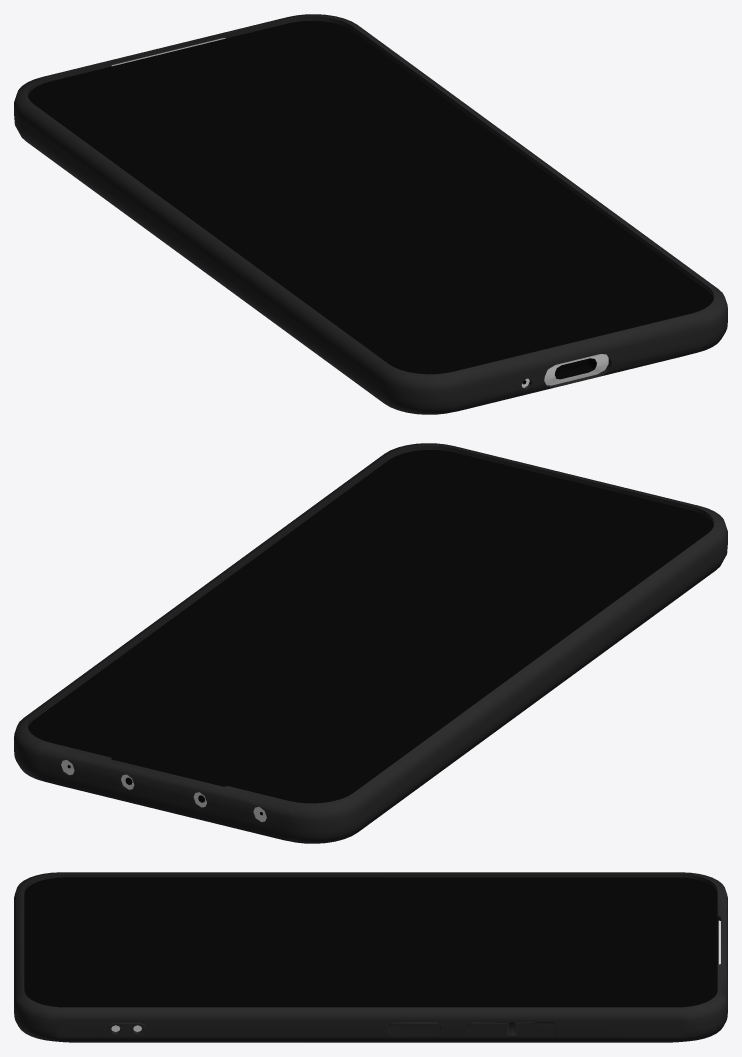
3 views of the same model, one above another, from view 1: azimuth 30°, elevation 25°; view 2: azimuth 150°, elevation 25°; view 3: azimuth 270°, elevation 25° (orthographic). The views are drawn at different scales.
Visible parts, largest first — view 1: smartphone_xiaomi13_Hot3D; view 2: smartphone_xiaomi13_Hot3D; view 3: smartphone_xiaomi13_Hot3D.
Part boxes in pixels (x1,y1,x2,y2): smartphone_xiaomi13_Hot3D: [14, 14, 727, 414]; smartphone_xiaomi13_Hot3D: [14, 443, 727, 843]; smartphone_xiaomi13_Hot3D: [14, 872, 727, 1042].
Bounding box in the file's own units: 0.0729 × 0.0103 × 0.154.
1 material, 1 textured.
